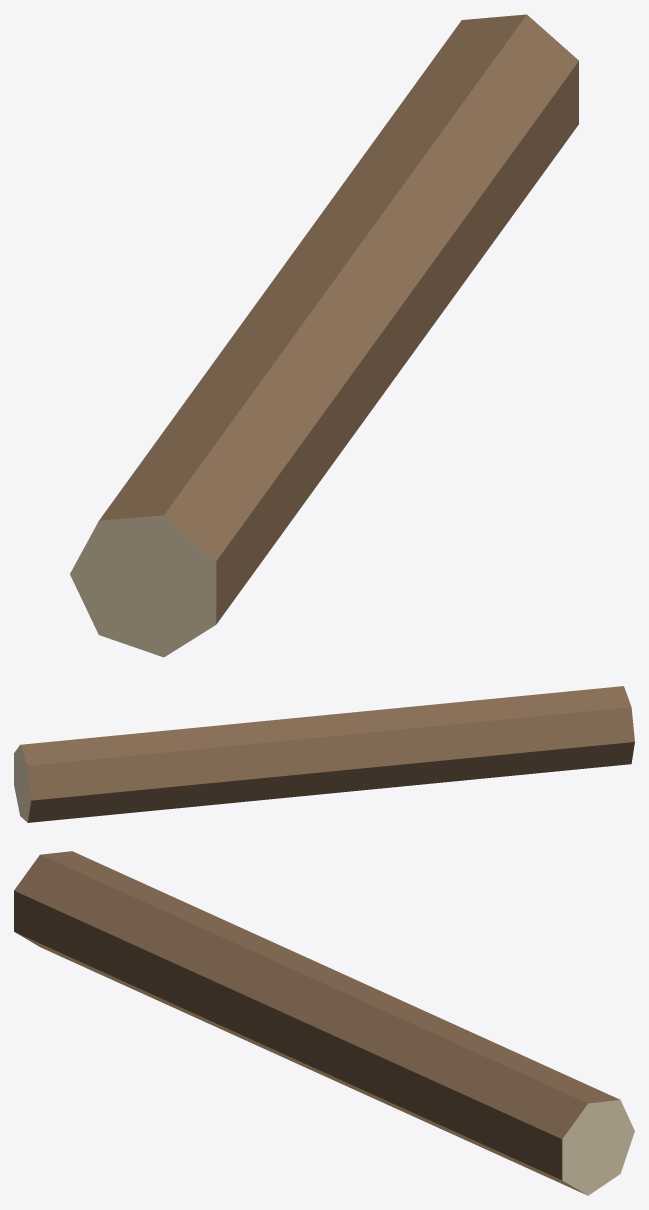
Rendered from tronco_caido_3.glb.
The picture shows the model from 3 angles, top to bottom: view 1: azimuth 30°, elevation 25°; view 2: azimuth 150°, elevation 25°; view 3: azimuth 270°, elevation 25°; orthographic projection. The views are drawn at different scales.
Visible parts, largest first — view 1: FallenLog_Back_1; view 2: FallenLog_Back_1; view 3: FallenLog_Back_1.
Boxes of the visible parts, box(x1,y1,x2,y2) form: FallenLog_Back_1: box(70, 14, 578, 657); FallenLog_Back_1: box(14, 686, 634, 822); FallenLog_Back_1: box(14, 851, 634, 1195).
Size of the model in its own units: 3 by 0.466 by 2.84.
